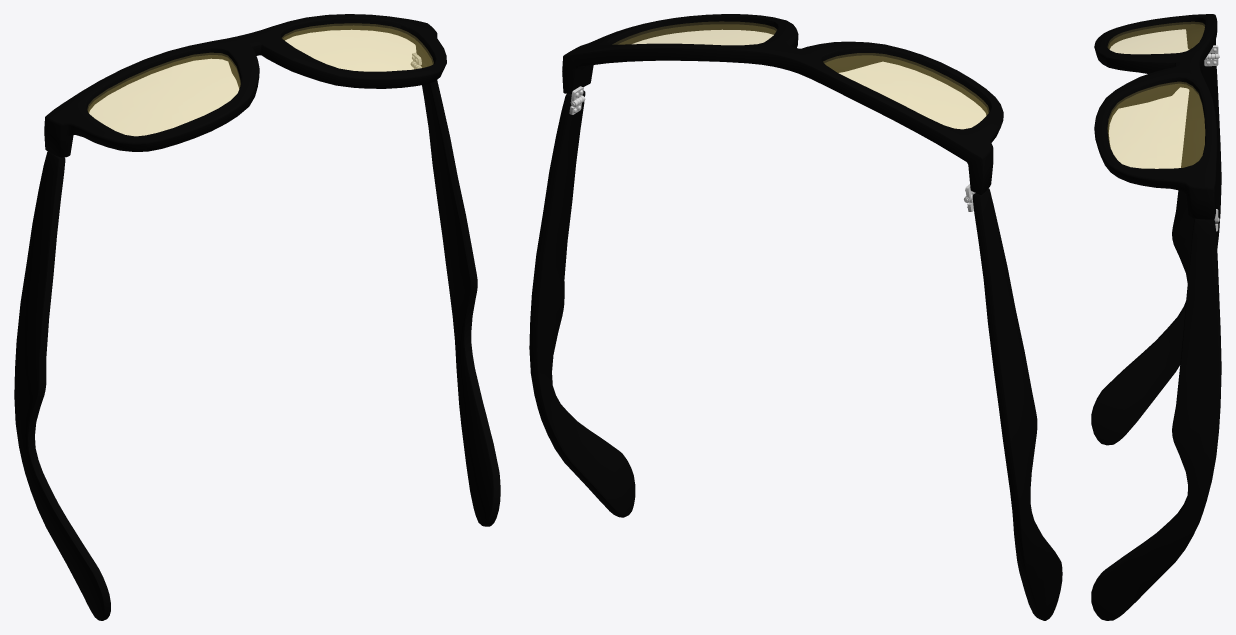
3 views of the same model, side by side, from view 1: azimuth 30°, elevation 25°; view 2: azimuth 150°, elevation 25°; view 3: azimuth 270°, elevation 25° (orthographic). The views are drawn at different scales.
Parts seen in each view (by area): view 1: roshan2, roshan3; view 2: roshan2, roshan3; view 3: roshan2, roshan3, roshan1.
Part boxes in pixels (bbox=[...]): roshan2: bbox=[14, 14, 500, 620]; roshan3: bbox=[87, 23, 433, 135]; roshan2: bbox=[529, 14, 1062, 620]; roshan3: bbox=[613, 21, 988, 128]; roshan2: bbox=[1091, 14, 1221, 620]; roshan3: bbox=[1107, 22, 1204, 168]; roshan1: bbox=[1204, 45, 1219, 231].
Size of the model in its own units: 154 by 166 by 41.83.
